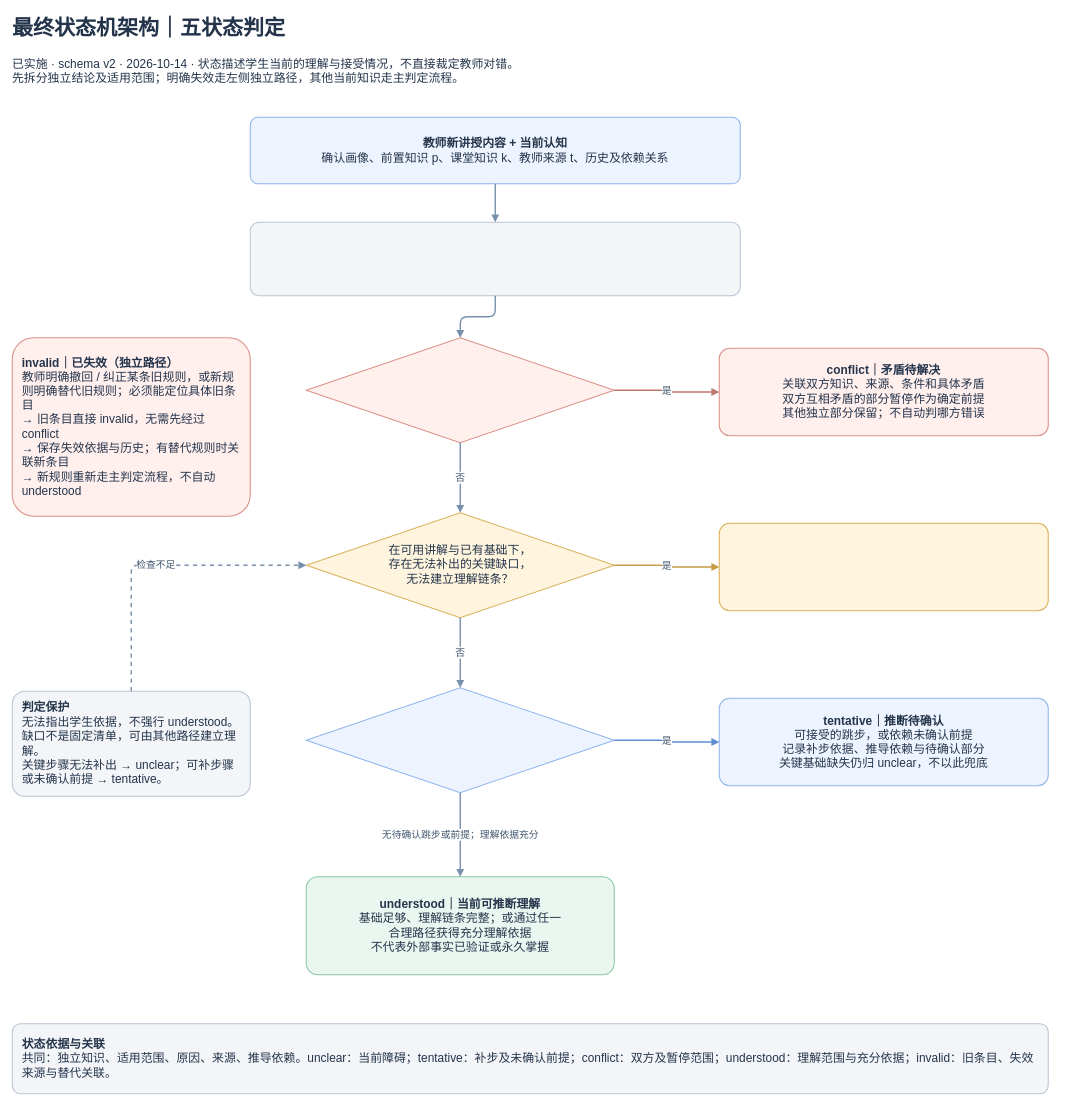
Image size: 1075x1106. Some labels were removed from this diagram. The centre of each missing label's shape, as x and y in pixels:
"unclear｜必要信息或基础缺失 记录当前无法理解的具体知识与原因 缺口是诊断依据，不是唯一解除条件 允许例子、表格、类比等其他路径建立理解" belongs at point 883,566.
"存在可补出的跳步， 或结论仍依赖 尚未确认的前提？" belongs at point 459,740.
"学生凭已有依据能识别： 同一适用条件下， 存在尚未解决的矛盾？" belongs at point 459,390.
"拆成可独立判断的知识条目，再识别条件 独立结论分别记录，避免局部纠错导致整条知识失效 识别必要基础、步骤与适用条件；年级只作辅助判断" belongs at point 494,258.
